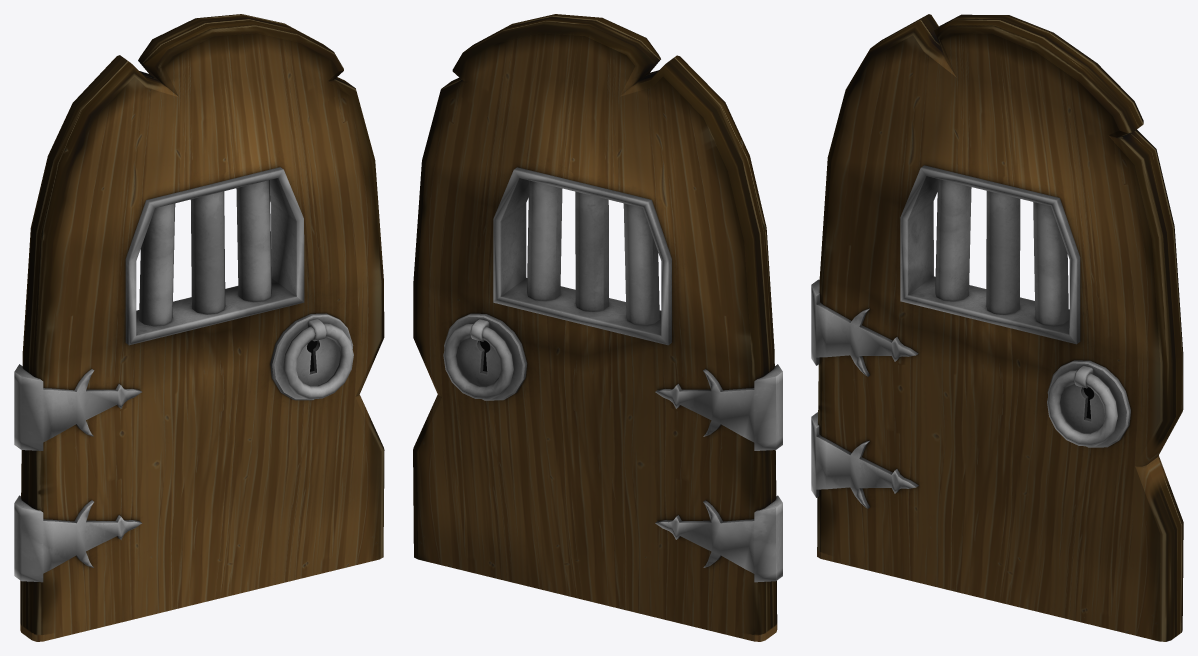
Rendered from Door.fbx.
3 renders of one model, left to right at view 1: azimuth 30°, elevation 25°; view 2: azimuth 150°, elevation 25°; view 3: azimuth 330°, elevation 25°, orthographic.
Visible parts, largest first — view 1: Door; view 2: Door; view 3: Door.
Boxes of the visible parts, x1,y1,x2,y2 form: Door: (14, 14, 384, 641); Door: (413, 14, 782, 641); Door: (811, 14, 1183, 641).
Bounding box in the file's own units: 1.84 × 2.79 × 0.3864.
